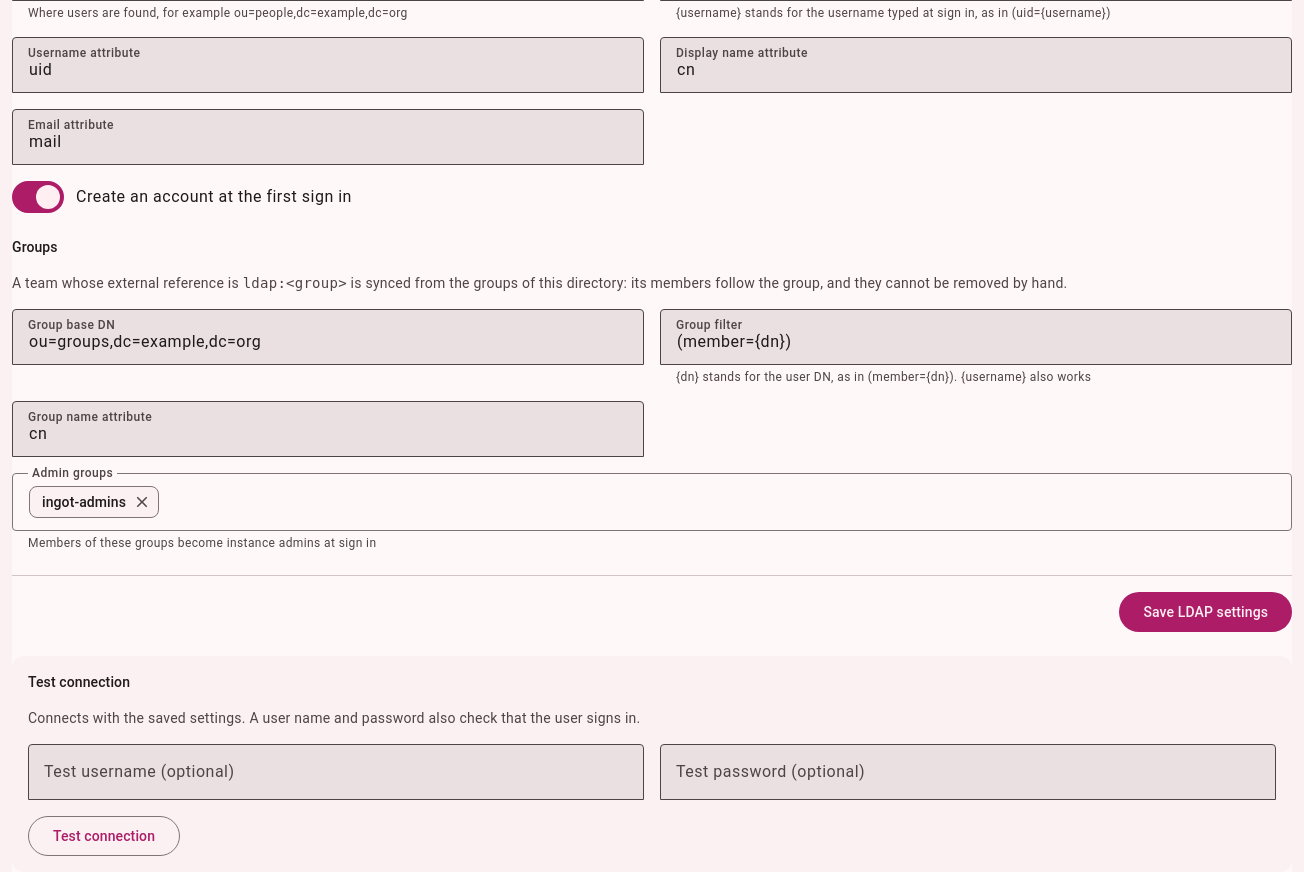
Test: LdapPanel › test connection › shows the reason when the directory cannot be reached
(page scrolled)
Click the button "Test connection" at (104, 836), box [28,816,180,856]
(page scrolled)
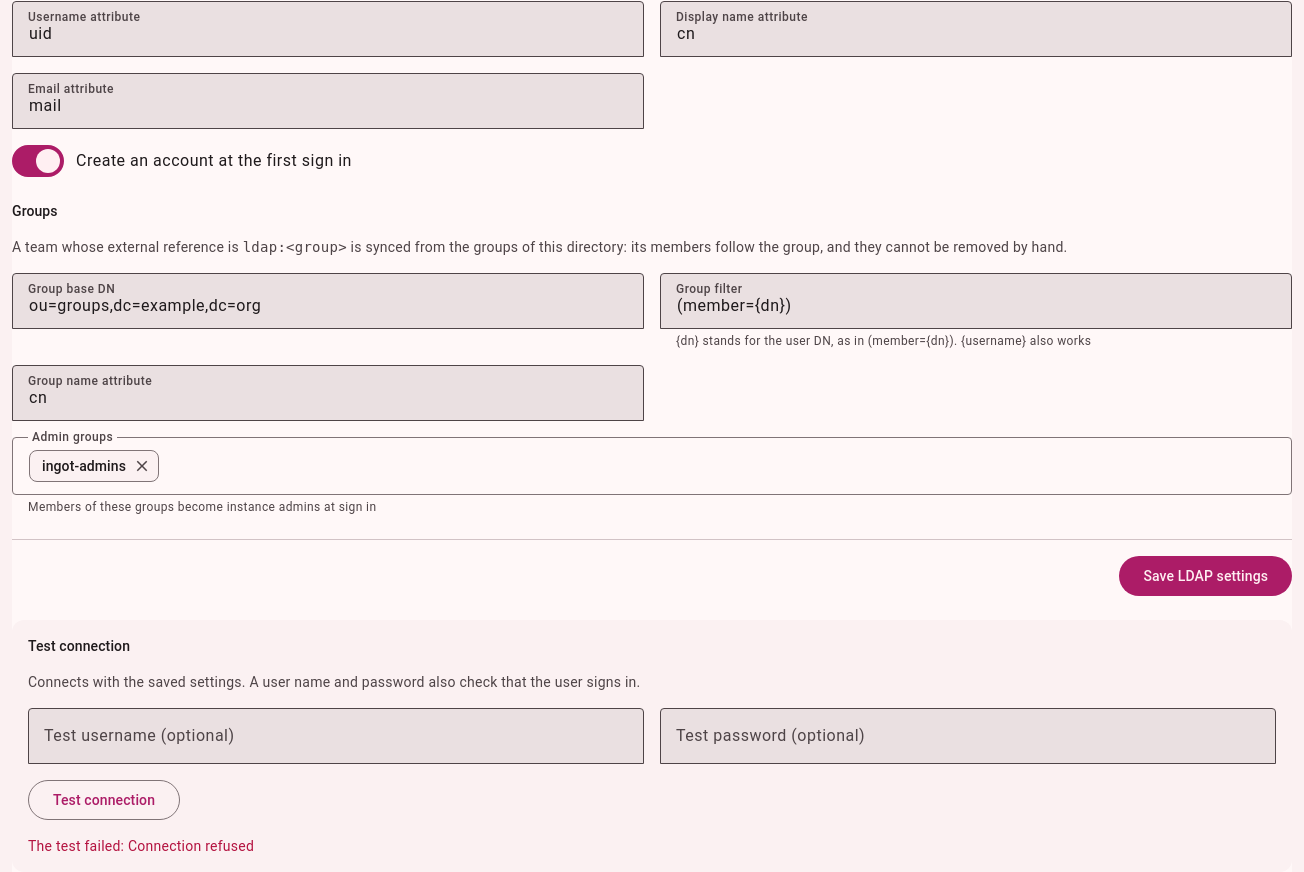
Result: the message with test id "ldap-test-result" reads "The test failed: Connection refused" at [28,838,254,854]
